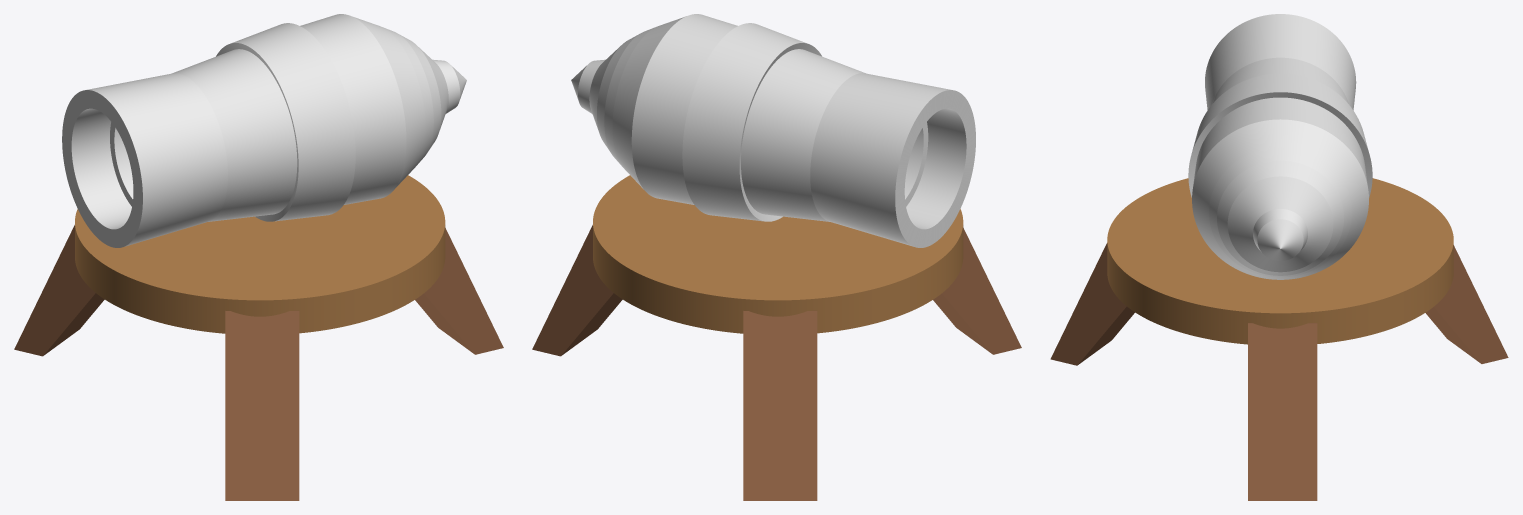
File: cannon.fbx
3 renders of one model, left to right at view 1: azimuth 30°, elevation 25°; view 2: azimuth 150°, elevation 25°; view 3: azimuth 270°, elevation 25°, orthographic. The views are drawn at different scales.
Visible parts, largest first — view 1: Cylinder, stand; view 2: Cylinder, stand; view 3: stand, Cylinder.
Boxes of the visible parts, box(x1,y1,x2,y2) form: Cylinder: box(62, 14, 466, 247); stand: box(14, 175, 503, 500); Cylinder: box(571, 14, 975, 247); stand: box(532, 175, 1021, 500); stand: box(1050, 178, 1508, 500); Cylinder: box(1188, 14, 1372, 279).
Bounding box in the file's own units: 241 × 208 × 265.
